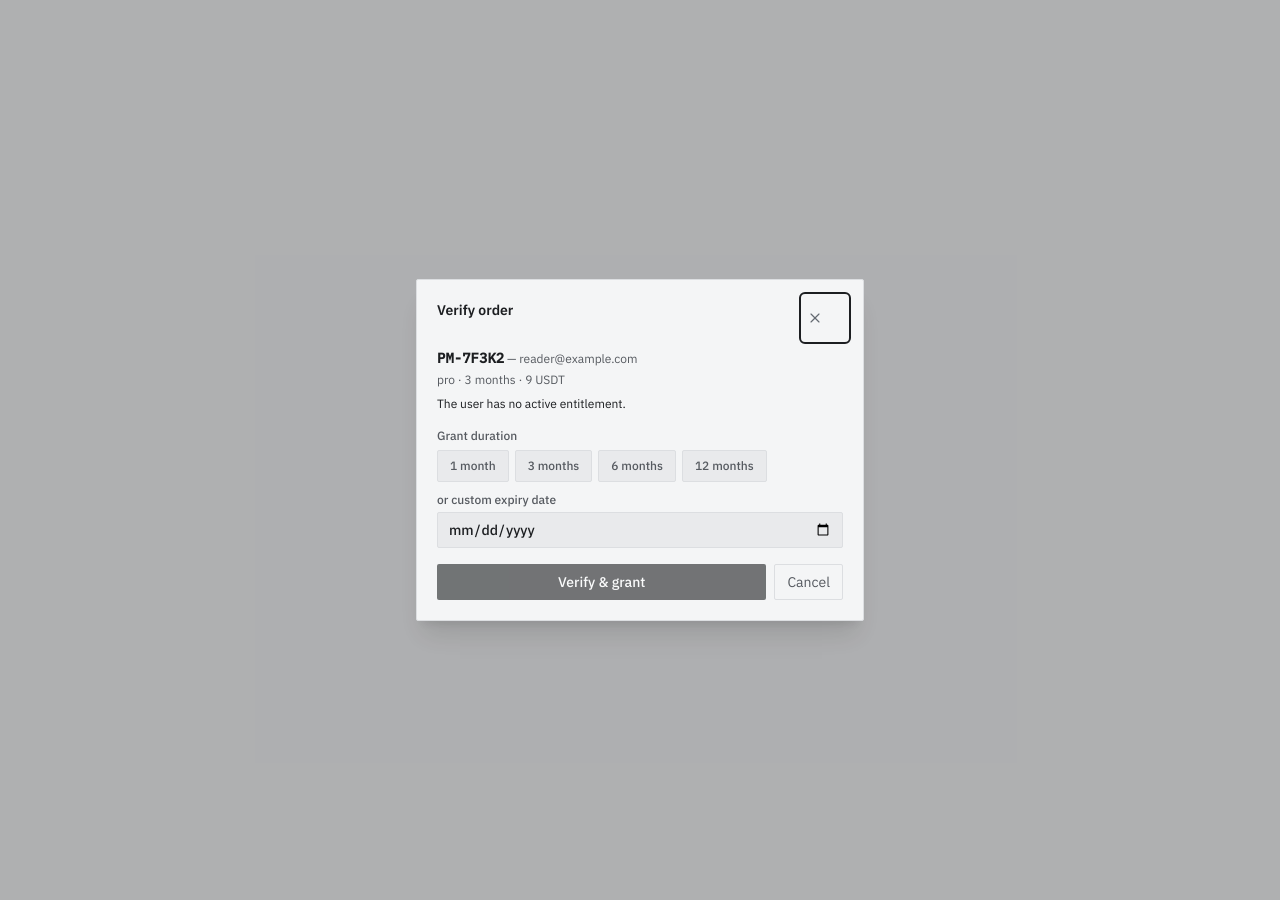
it: cannot confirm before choosing a duration or a custom date
Check: the button with test id "confirm-verify" is disabled, box [437, 564, 766, 600]
Click the button with test id "duration-1" at (473, 466), box [437, 450, 509, 482]
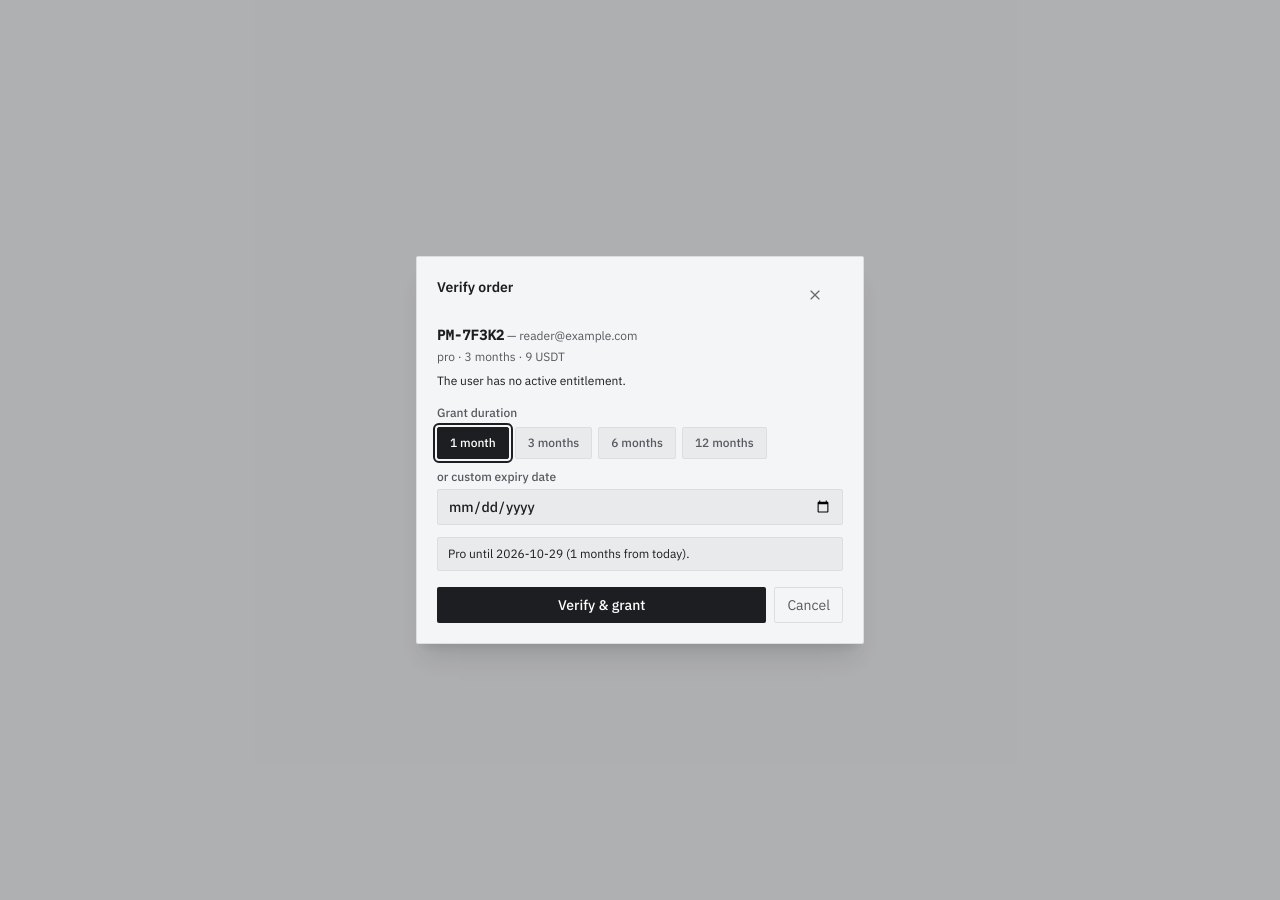
Check: the button with test id "confirm-verify" is enabled, box [437, 587, 766, 623]
